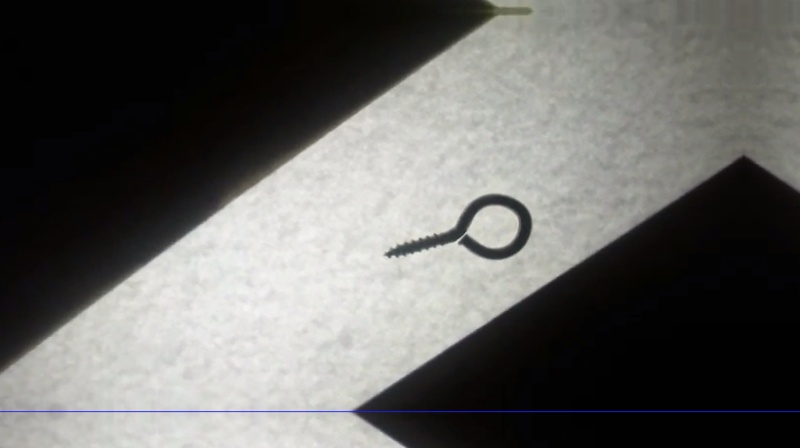O001: (380, 189, 535, 261)
